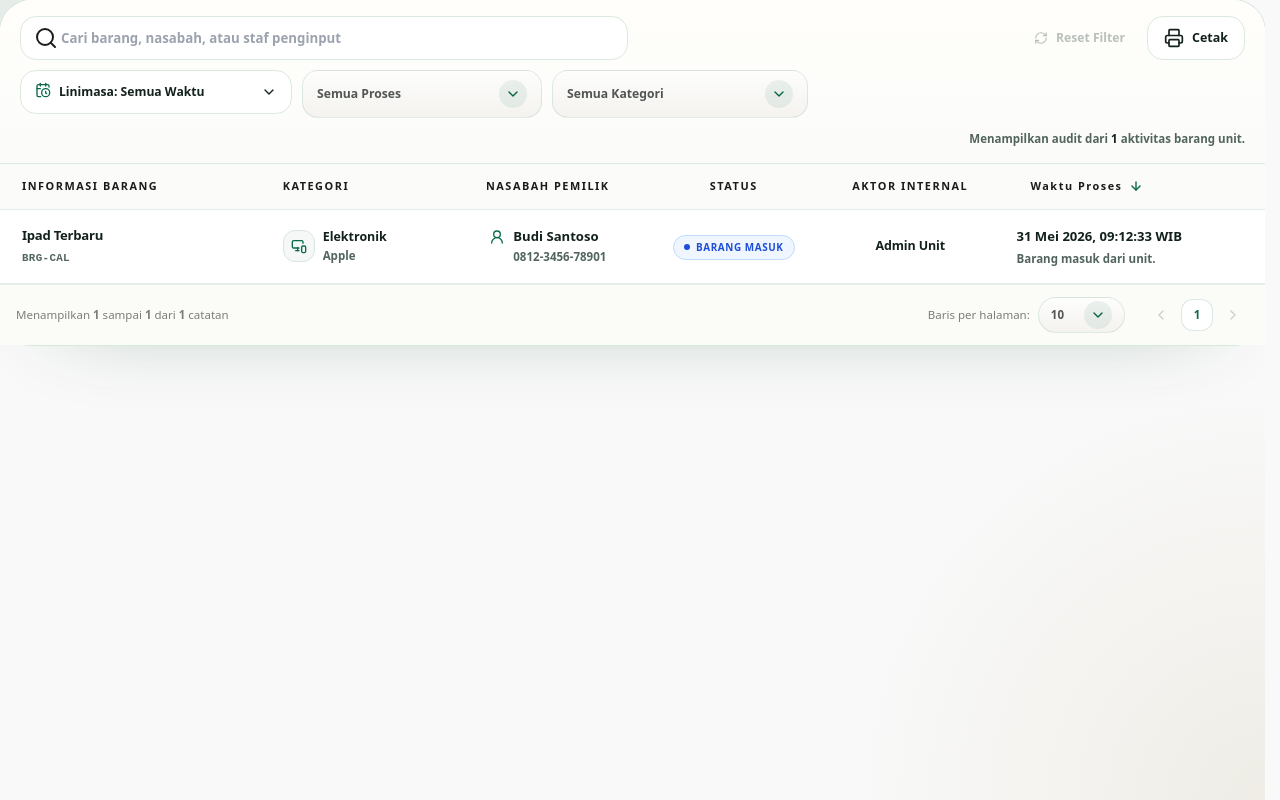
Test: AdminInventoryHistoryWorkspace › opens the timeline calendar popover with shortcut and calendar panels
The width and height of the screenshot is (1280, 800).
Click the button "Linimasa: Semua Waktu" at (156, 92), box [20,70,292,114]
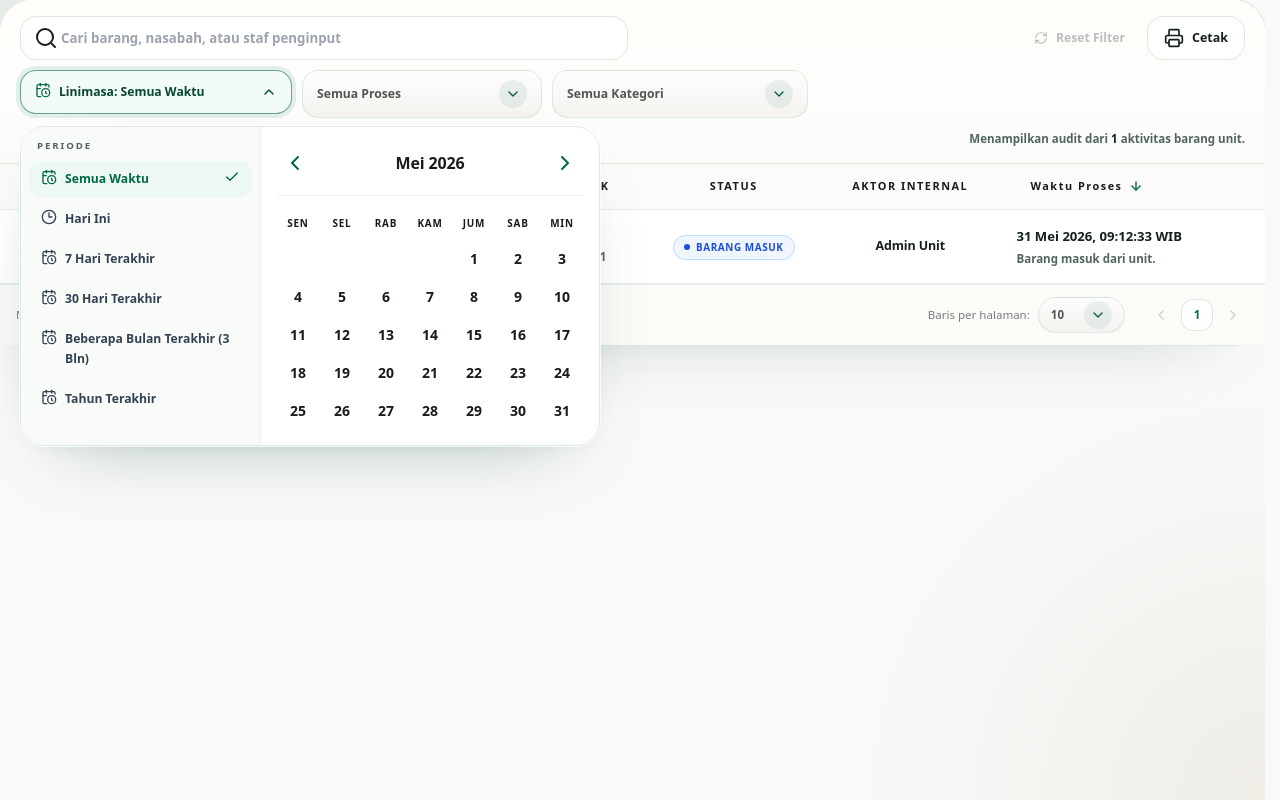
Check: the text "Periode" is shown, box [37,139,92,152]
Check: the button named "Bulan sebelumnya" is shown, box [277,145,313,181]
Check: the button named "Bulan berikutnya" is shown, box [547,145,583,181]
